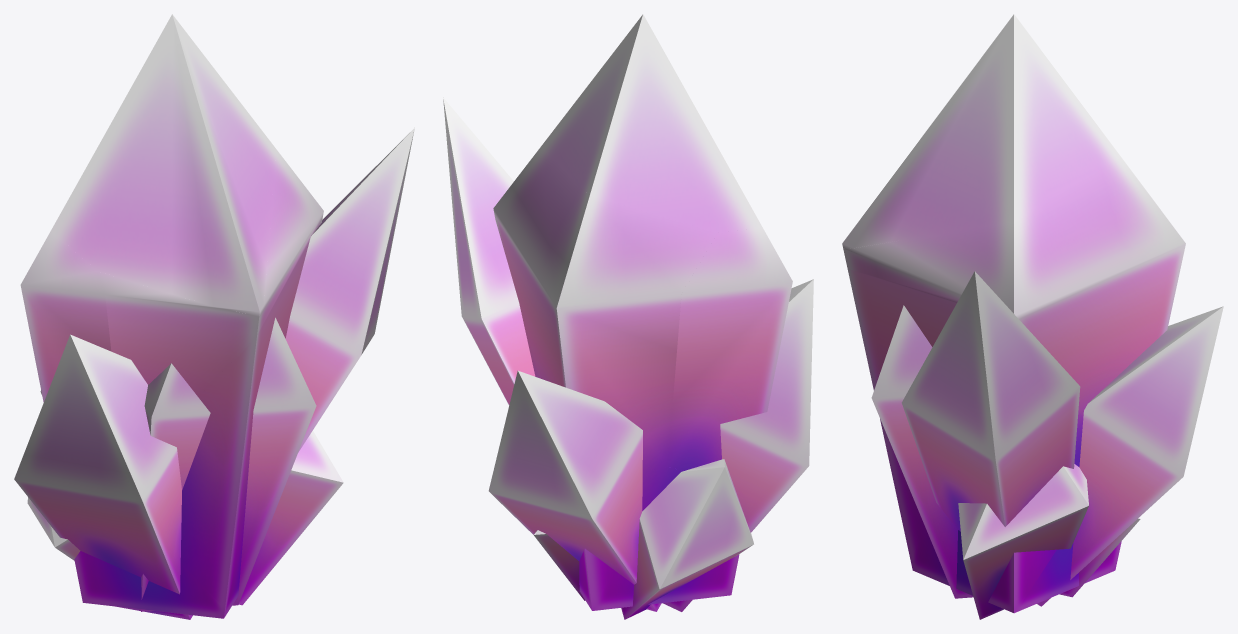
The model's file is Crystal_crush_t1_003.fbx.
The picture shows the model from 3 angles, left to right: view 1: azimuth 30°, elevation 25°; view 2: azimuth 150°, elevation 25°; view 3: azimuth 270°, elevation 25°; orthographic projection.
Parts seen in each view (by area): view 1: crystal (16), crystal (6), crystal (3), crystal (14), crystal (15), crystal (8), crystal (13), crystal (7), crystal (12), crystal (10); view 2: crystal (14), crystal (16), crystal (9), crystal (13), crystal (3), crystal (6), crystal (10), crystal (12), crystal (11); view 3: crystal (14), crystal (16), crystal (3), crystal (9), crystal (15), crystal (7), crystal (8), crystal (12), crystal (11).
Boxes of the visible parts, bbox=[...] form: crystal (16): bbox=[51, 14, 276, 316]; crystal (6): bbox=[14, 334, 192, 619]; crystal (3): bbox=[285, 128, 414, 452]; crystal (14): bbox=[97, 149, 323, 396]; crystal (15): bbox=[180, 218, 322, 608]; crystal (8): bbox=[139, 317, 316, 611]; crystal (13): bbox=[20, 231, 111, 402]; crystal (7): bbox=[238, 430, 343, 605]; crystal (12): bbox=[74, 551, 238, 618]; crystal (10): bbox=[27, 497, 80, 560]; crystal (14): bbox=[493, 147, 717, 470]; crystal (16): bbox=[540, 14, 762, 232]; crystal (9): bbox=[488, 370, 661, 611]; crystal (13): bbox=[667, 228, 792, 470]; crystal (3): bbox=[443, 97, 535, 405]; crystal (6): bbox=[662, 279, 813, 611]; crystal (10): bbox=[621, 459, 753, 619]; crystal (12): bbox=[579, 467, 739, 610]; crystal (11): bbox=[534, 530, 585, 600]; crystal (14): bbox=[843, 156, 1185, 416]; crystal (16): bbox=[842, 14, 1119, 248]; crystal (3): bbox=[901, 271, 1080, 530]; crystal (9): bbox=[1037, 306, 1223, 606]; crystal (15): bbox=[847, 269, 1083, 613]; crystal (7): bbox=[958, 464, 1088, 619]; crystal (8): bbox=[871, 305, 973, 598]; crystal (12): bbox=[910, 541, 1121, 612]; crystal (11): bbox=[1059, 517, 1140, 597].
Bounding box in the file's own units: 827 × 1212 × 722.
